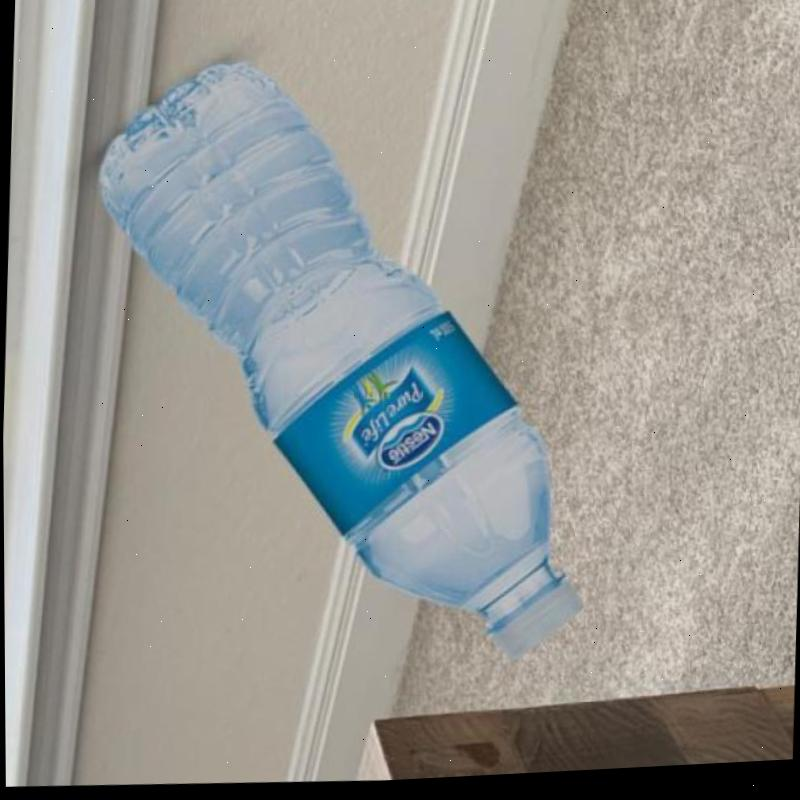botella: (81, 42, 601, 686)
